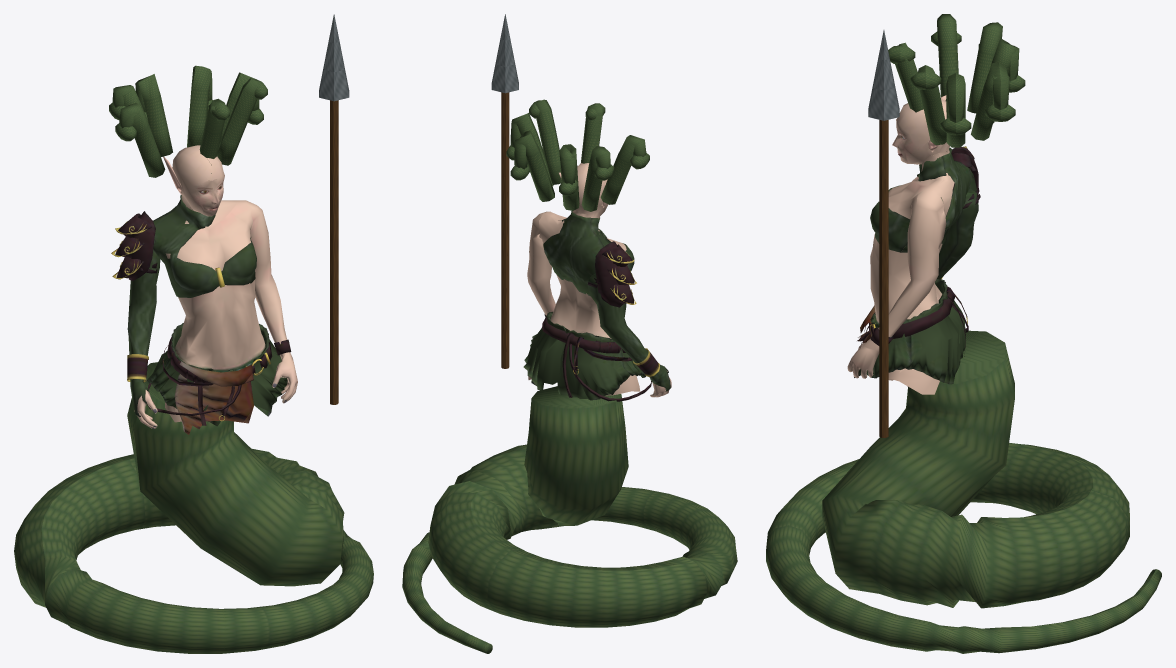
The model's file is special-medusa-mobile.glb.
3 renders of one model, left to right at view 1: azimuth 30°, elevation 25°; view 2: azimuth 150°, elevation 25°; view 3: azimuth 270°, elevation 25°, orthographic. The views are drawn at different scales.
Visible parts, largest first — view 1: scale, Licensed clothed female anatomy - adapted elf, wood, steel; view 2: scale, Licensed clothed female anatomy - adapted elf, wood, steel; view 3: scale, Licensed clothed female anatomy - adapted elf, wood, steel.
Part boxes in pixels (x1,y1,x2,y2): scale: (14,65,373,653); Licensed clothed female anatomy - adapted elf: (111,145,297,434); wood: (330,100,338,404); steel: (319,14,349,101); scale: (402,99,737,653); Licensed clothed female anatomy - adapted elf: (523,163,671,401); wood: (501,92,509,368); steel: (491,14,518,93); scale: (766,14,1161,653); Licensed clothed female anatomy - adapted elf: (847,95,980,394); wood: (879,120,888,437); steel: (868,30,899,120).
Size of the model in its own units: 0.9516 by 1.67 by 0.9884.
5 materials, 5 textured.
